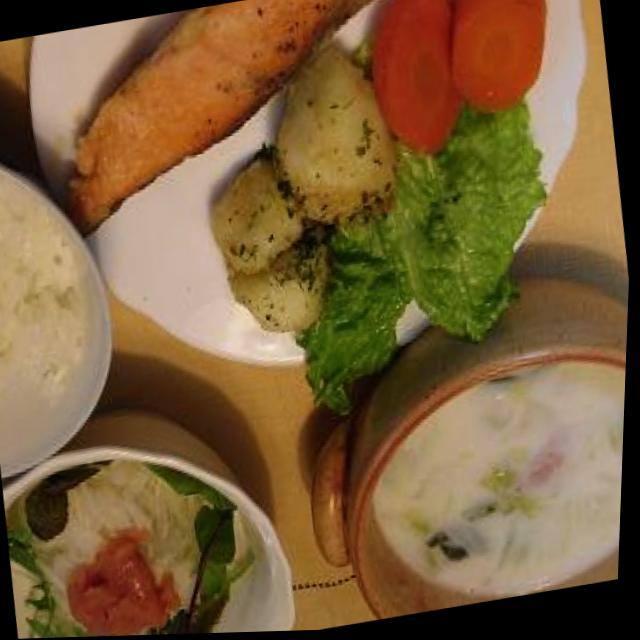熟制海鲜: (39, 0, 514, 237)
